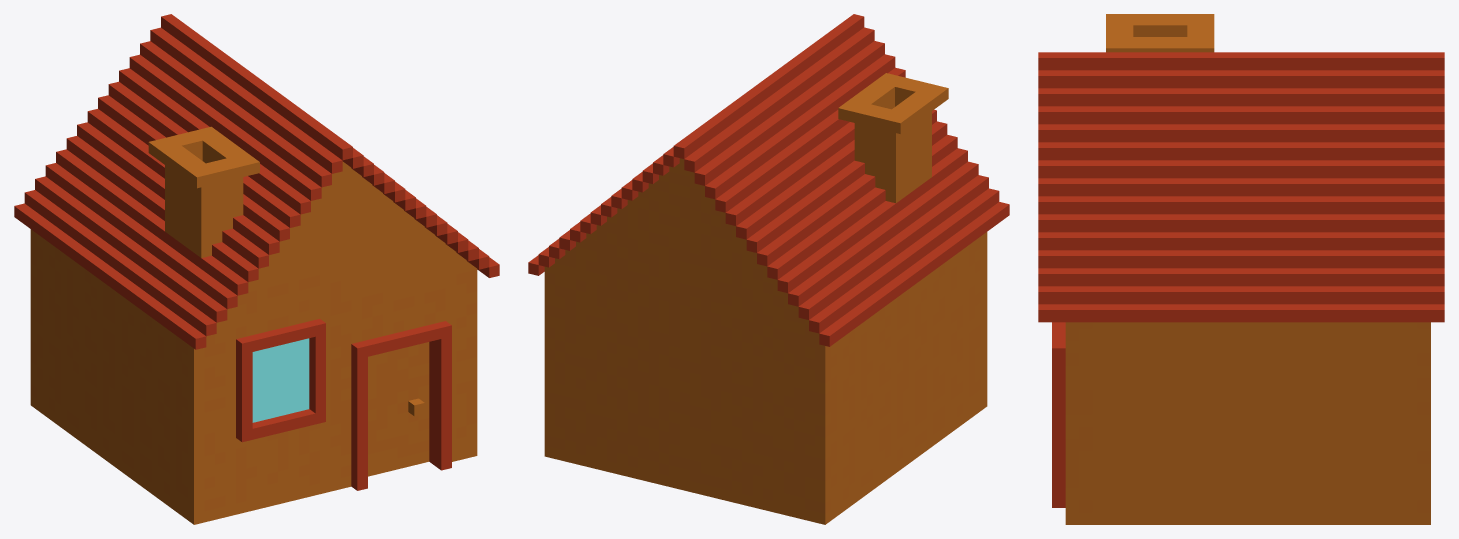
File: HOME_2.obj
3 views of the same model, side by side, from view 1: azimuth 30°, elevation 25°; view 2: azimuth 150°, elevation 25°; view 3: azimuth 270°, elevation 25° (orthographic). The views are drawn at different scales.
Bounding box in the file's own units: 2.9 × 3.2 × 3.
1 material, 1 textured.
